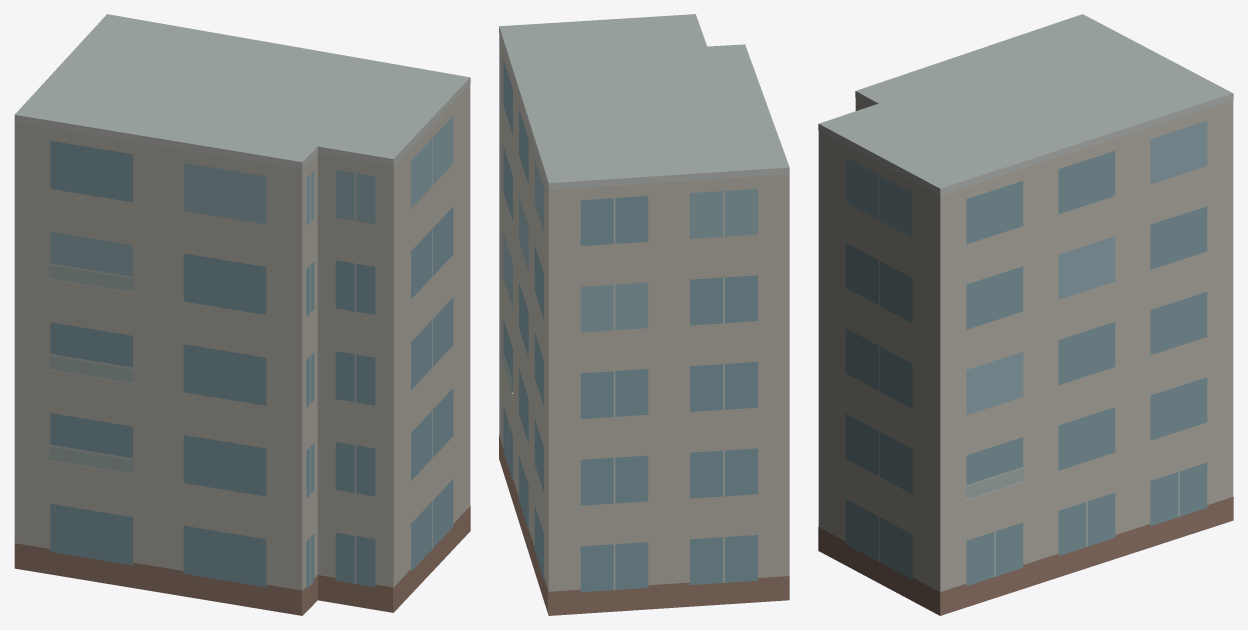
Rendered from survey-upis-32913530.glb.
The picture shows the model from 3 angles, left to right: view 1: azimuth 30°, elevation 25°; view 2: azimuth 150°, elevation 25°; view 3: azimuth 270°, elevation 25°; orthographic projection. The views are drawn at different scales.
Visible parts, largest first — view 1: survey-upis-32913530.tmp; view 2: survey-upis-32913530.tmp; view 3: survey-upis-32913530.tmp.
Boxes of the visible parts, x1,y1,x2,y2 form: survey-upis-32913530.tmp: [14, 14, 470, 615]; survey-upis-32913530.tmp: [499, 14, 789, 615]; survey-upis-32913530.tmp: [818, 14, 1233, 615].
Bounding box in the file's own units: 13.38 × 15.25 × 13.43.
